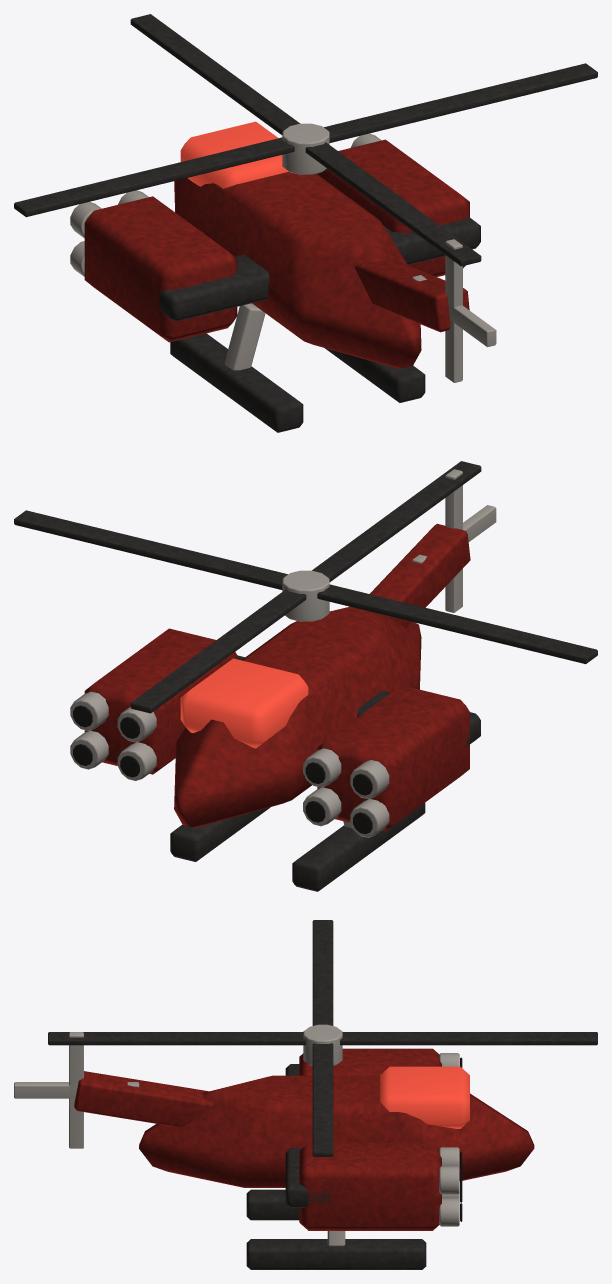
The model's file is kharn_faucheur.gltf.
The picture shows the model from 3 angles, top to bottom: view 1: azimuth 30°, elevation 25°; view 2: azimuth 150°, elevation 25°; view 3: azimuth 270°, elevation 25°; orthographic projection. The views are drawn at different scales.
Visible parts, largest first — view 1: Root.034_Geometry, Rotor_0.001_Geometry, GunPitch.022_Geometry, GunPitch.023_Geometry, TailRotor_Geometry; view 2: Root.034_Geometry, Rotor_0.001_Geometry, GunPitch.022_Geometry, GunPitch.023_Geometry, TailRotor_Geometry; view 3: Root.034_Geometry, GunPitch.023_Geometry, Rotor_0.001_Geometry, GunPitch.022_Geometry, TailRotor_Geometry.
Part boxes in pixels (x1=…): Root.034_Geometry: x1=156, y1=121, x2=480, y2=432; Rotor_0.001_Geometry: x1=14, y1=14, x2=597, y2=266; GunPitch.022_Geometry: x1=70, y1=190, x2=237, y2=342; GunPitch.023_Geometry: x1=317, y1=133, x2=469, y2=276; TailRotor_Geometry: x1=412, y1=239, x2=496, y2=382; Root.034_Geometry: x1=170, y1=523, x2=480, y2=891; Rotor_0.001_Geometry: x1=14, y1=461, x2=597, y2=713; GunPitch.022_Geometry: x1=303, y1=685, x2=469, y2=837; GunPitch.023_Geometry: x1=70, y1=628, x2=237, y2=780; TailRotor_Geometry: x1=412, y1=469, x2=496, y2=612; Root.034_Geometry: x1=74, y1=1064, x2=534, y2=1269; GunPitch.023_Geometry: x1=299, y1=1143, x2=462, y2=1230; Rotor_0.001_Geometry: x1=48, y1=920, x2=597, y2=1156; GunPitch.022_Geometry: x1=299, y1=1048, x2=462, y2=1075; TailRotor_Geometry: x1=14, y1=1032, x2=139, y2=1148.
Size of the model in its own units: 4.04 by 1.69 by 4.29.
5 materials, 3 textured.
